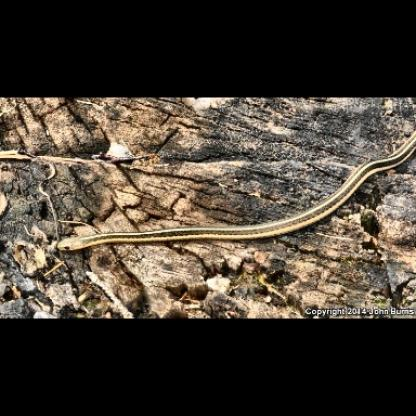Snake: (50, 136, 416, 250)
